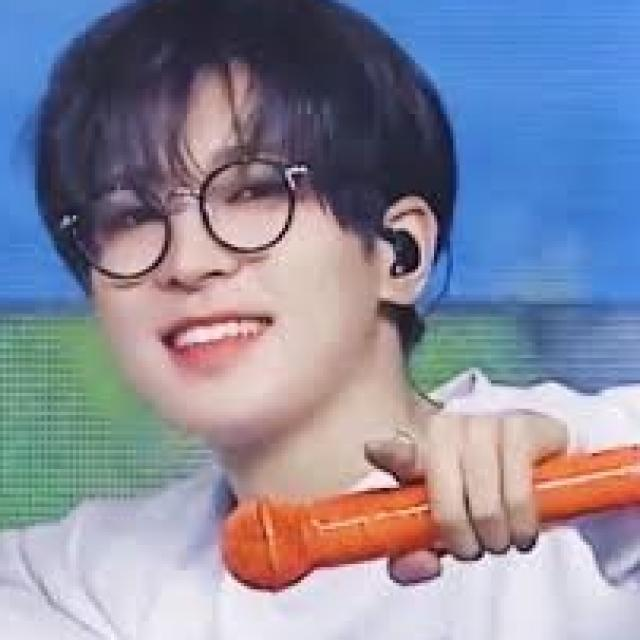Glasses: (44, 143, 390, 288)
